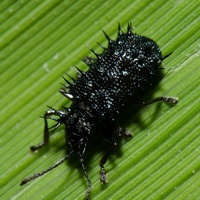insect: (20, 23, 178, 199)
